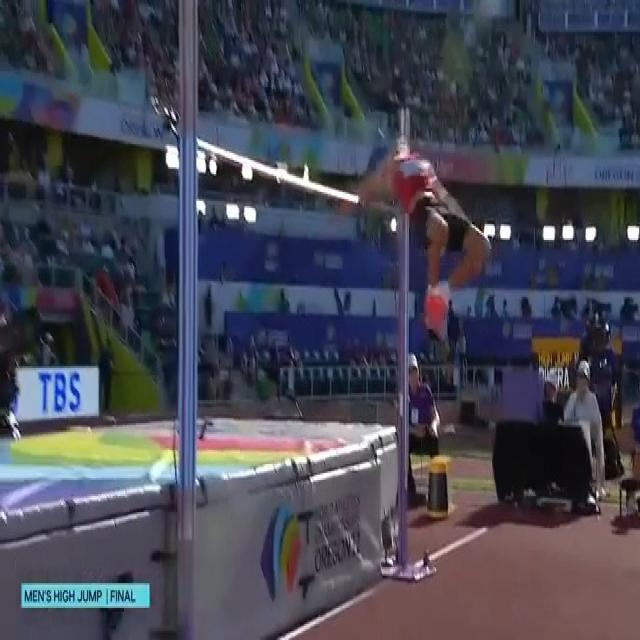jump: (338, 132, 492, 335)
